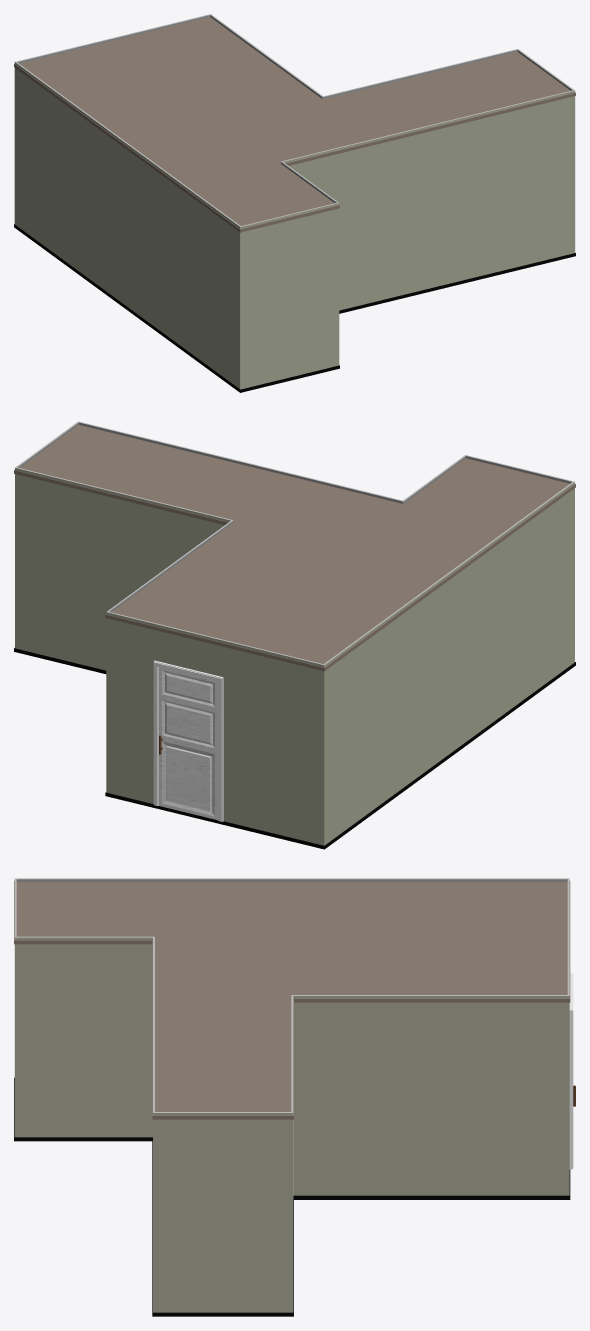
Rendered from ProcTHOR-Train-62.glb.
3 views of the same model, one above another, from view 1: azimuth 30°, elevation 25°; view 2: azimuth 150°, elevation 25°; view 3: azimuth 270°, elevation 25° (orthographic). The views are drawn at different scales.
Parts seen in each view (by area): view 1: Ceiling#room|2|c, WallInside#wall|exterior|0.00|4.96|4.96|4.96, WallInside#wall|exterior|6.61|0.00|6.61|6.61, WallInside#wall|exterior|4.96|6.61|6.61|6.61, Floor#room|2|f, WallInside#wall|2|0.00|3.30|3.30|3.30, WallInside#wall|2|3.30|0.00|6.61|0.00; view 2: Ceiling#room|2|c, WallInside#wall|exterior|6.61|0.00|6.61|6.61, WallInside#wall|exterior|3.30|0.00|6.61|0.00, WallInside#wall|exterior|0.00|3.30|3.30|3.30, Doorway_8, Floor#room|2|f, WallInside#wall|2|0.00|4.96|4.96|4.96; view 3: Ceiling#room|2|c, WallInside#wall|exterior|3.30|0.00|3.30|3.30, WallInside#wall|exterior|0.00|3.30|0.00|4.96, WallInside#wall|exterior|4.96|4.96|4.96|6.61, Floor#room|2|f, WallInside#wall|2|6.61|0.00|6.61|6.61, Doorway_8, WallInside#wall|exterior|6.61|0.00|6.61|6.61.
Part boxes in pixels (x1,y1,x2,y2): Ceiling#room|2|c: (14,17,575,232); WallInside#wall|exterior|0.00|4.96|4.96|4.96: (283,90,574,310); WallInside#wall|exterior|6.61|0.00|6.61|6.61: (14,62,240,389); WallInside#wall|exterior|4.96|6.61|6.61|6.61: (240,203,339,389); Floor#room|2|f: (14,224,575,392); WallInside#wall|2|0.00|3.30|3.30|3.30: (323,49,517,99); WallInside#wall|2|3.30|0.00|6.61|0.00: (15,14,210,63); Ceiling#room|2|c: (14,425,575,671); WallInside#wall|exterior|6.61|0.00|6.61|6.61: (324,481,574,845); WallInside#wall|exterior|3.30|0.00|6.61|0.00: (106,612,324,845); WallInside#wall|exterior|0.00|3.30|3.30|3.30: (15,468,232,670); Doorway_8: (153,660,223,821); Floor#room|2|f: (14,648,575,849); WallInside#wall|2|0.00|4.96|4.96|4.96: (78,422,403,503); Ceiling#room|2|c: (14,880,570,1119); WallInside#wall|exterior|3.30|0.00|3.30|3.30: (291,995,569,1195); WallInside#wall|exterior|0.00|3.30|0.00|4.96: (153,1112,292,1312); WallInside#wall|exterior|4.96|4.96|4.96|6.61: (15,937,152,1137); Floor#room|2|f: (14,1077,570,1316); WallInside#wall|2|6.61|0.00|6.61|6.61: (15,878,569,881); Doorway_8: (569,973,575,1169); WallInside#wall|exterior|6.61|0.00|6.61|6.61: (15,878,567,878).
Bounding box in the file's own units: 6.65 × 2.68 × 6.71.
Materials: 56 (8 with a texture image).
